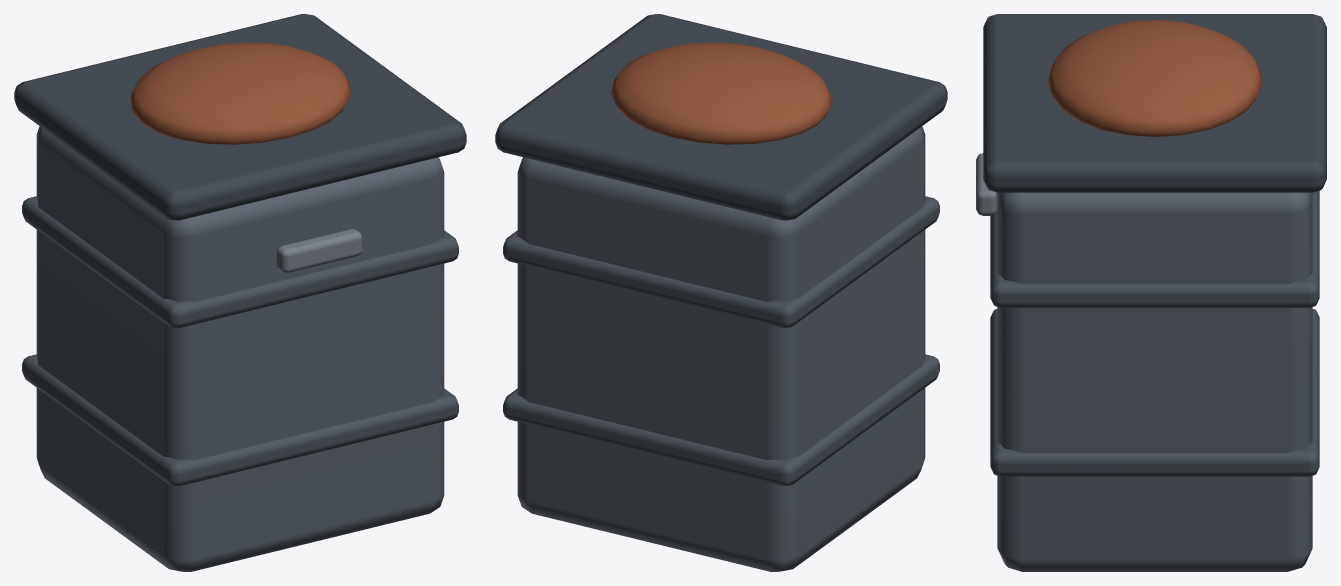
File: furn_clay_bin.glb
3 renders of one model, left to right at view 1: azimuth 30°, elevation 25°; view 2: azimuth 150°, elevation 25°; view 3: azimuth 270°, elevation 25°, orthographic. The views are drawn at different scales.
Parts seen in each view (by area): view 1: furn_clay_bin_main; view 2: furn_clay_bin_main; view 3: furn_clay_bin_main.
Part boxes in pixels (x1,y1,x2,y2): furn_clay_bin_main: (14,14,466,571); furn_clay_bin_main: (495,14,947,571); furn_clay_bin_main: (976,14,1326,571).
Size of the model in its own units: 0.52 by 0.71 by 0.49.
